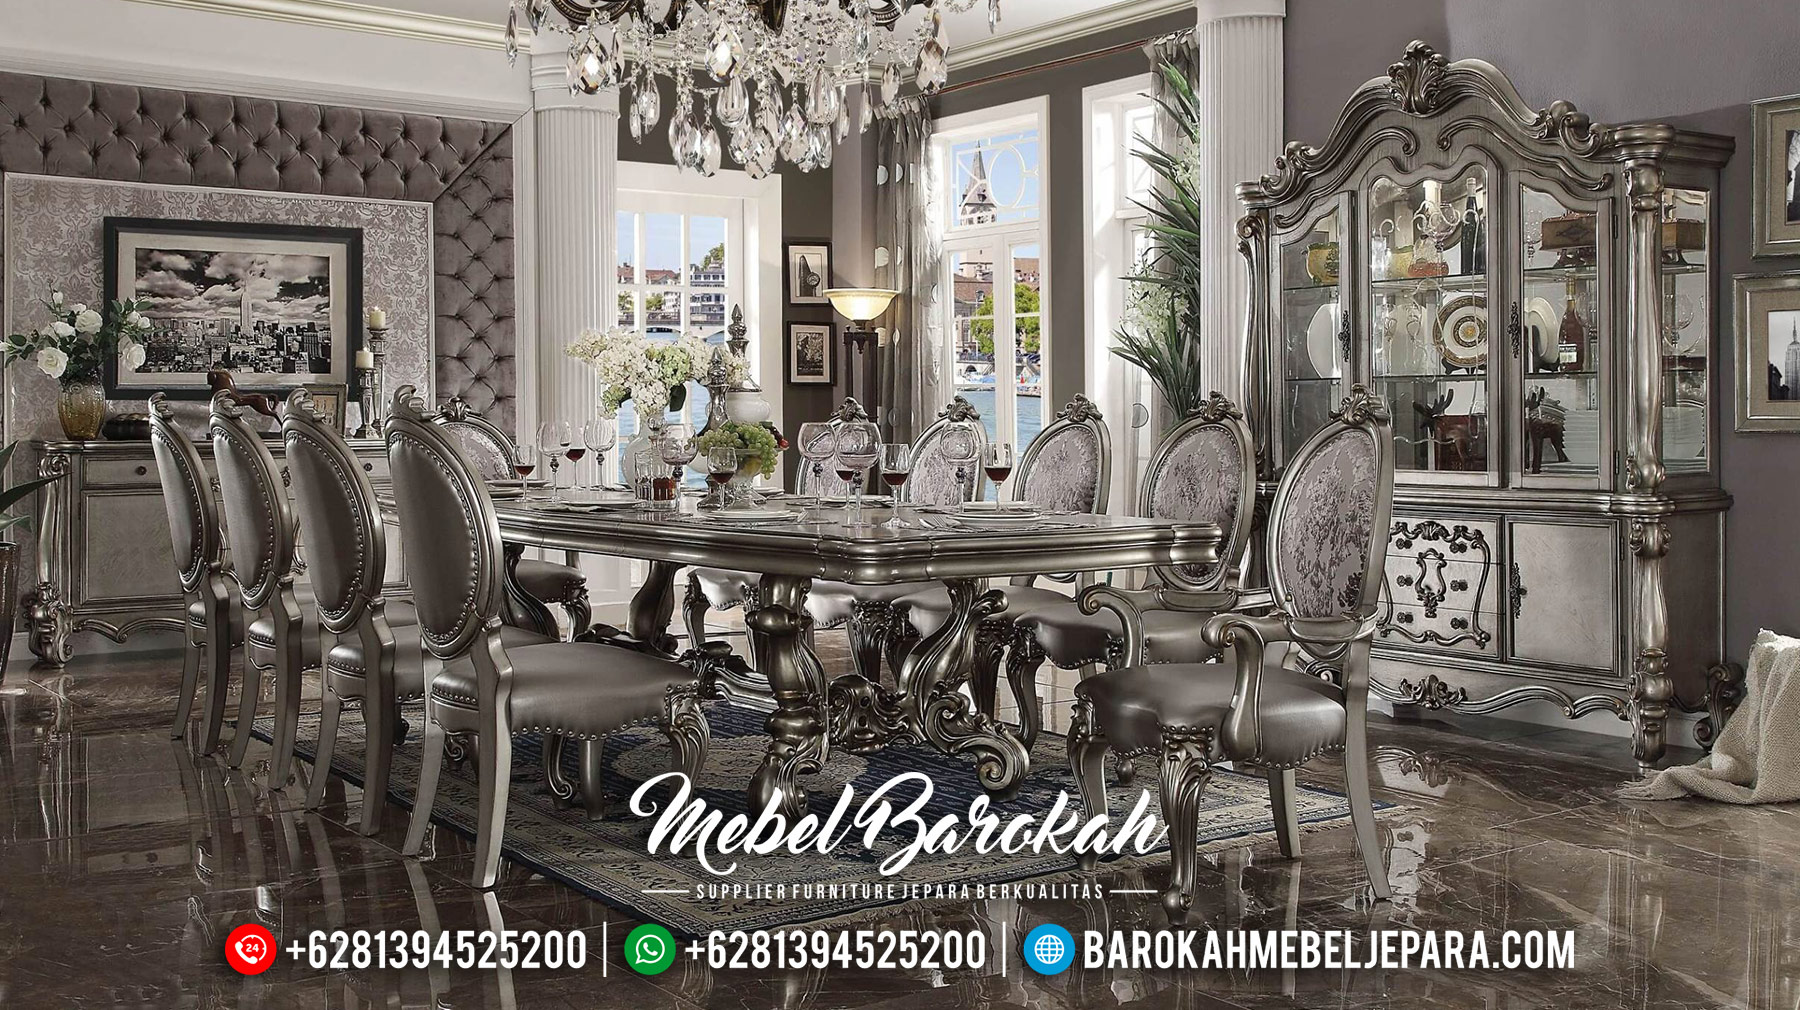Carving Table: (413, 431, 1189, 834)
